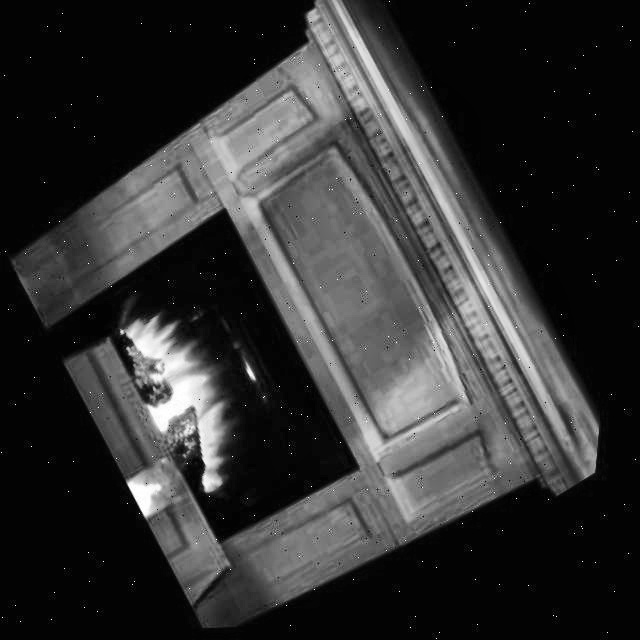Fire: (93, 269, 303, 518)
